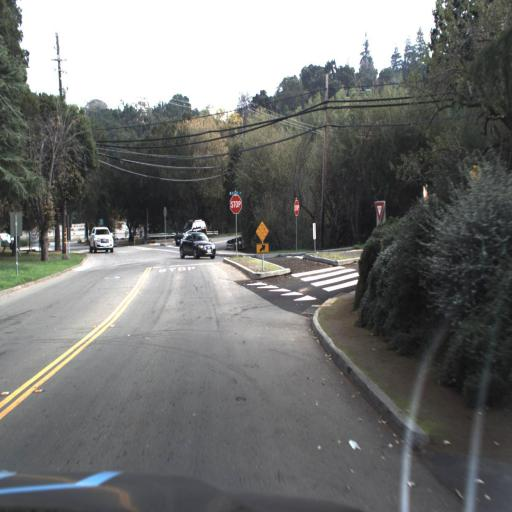car: (178, 230, 218, 264), (82, 224, 119, 257), (175, 216, 208, 244)
